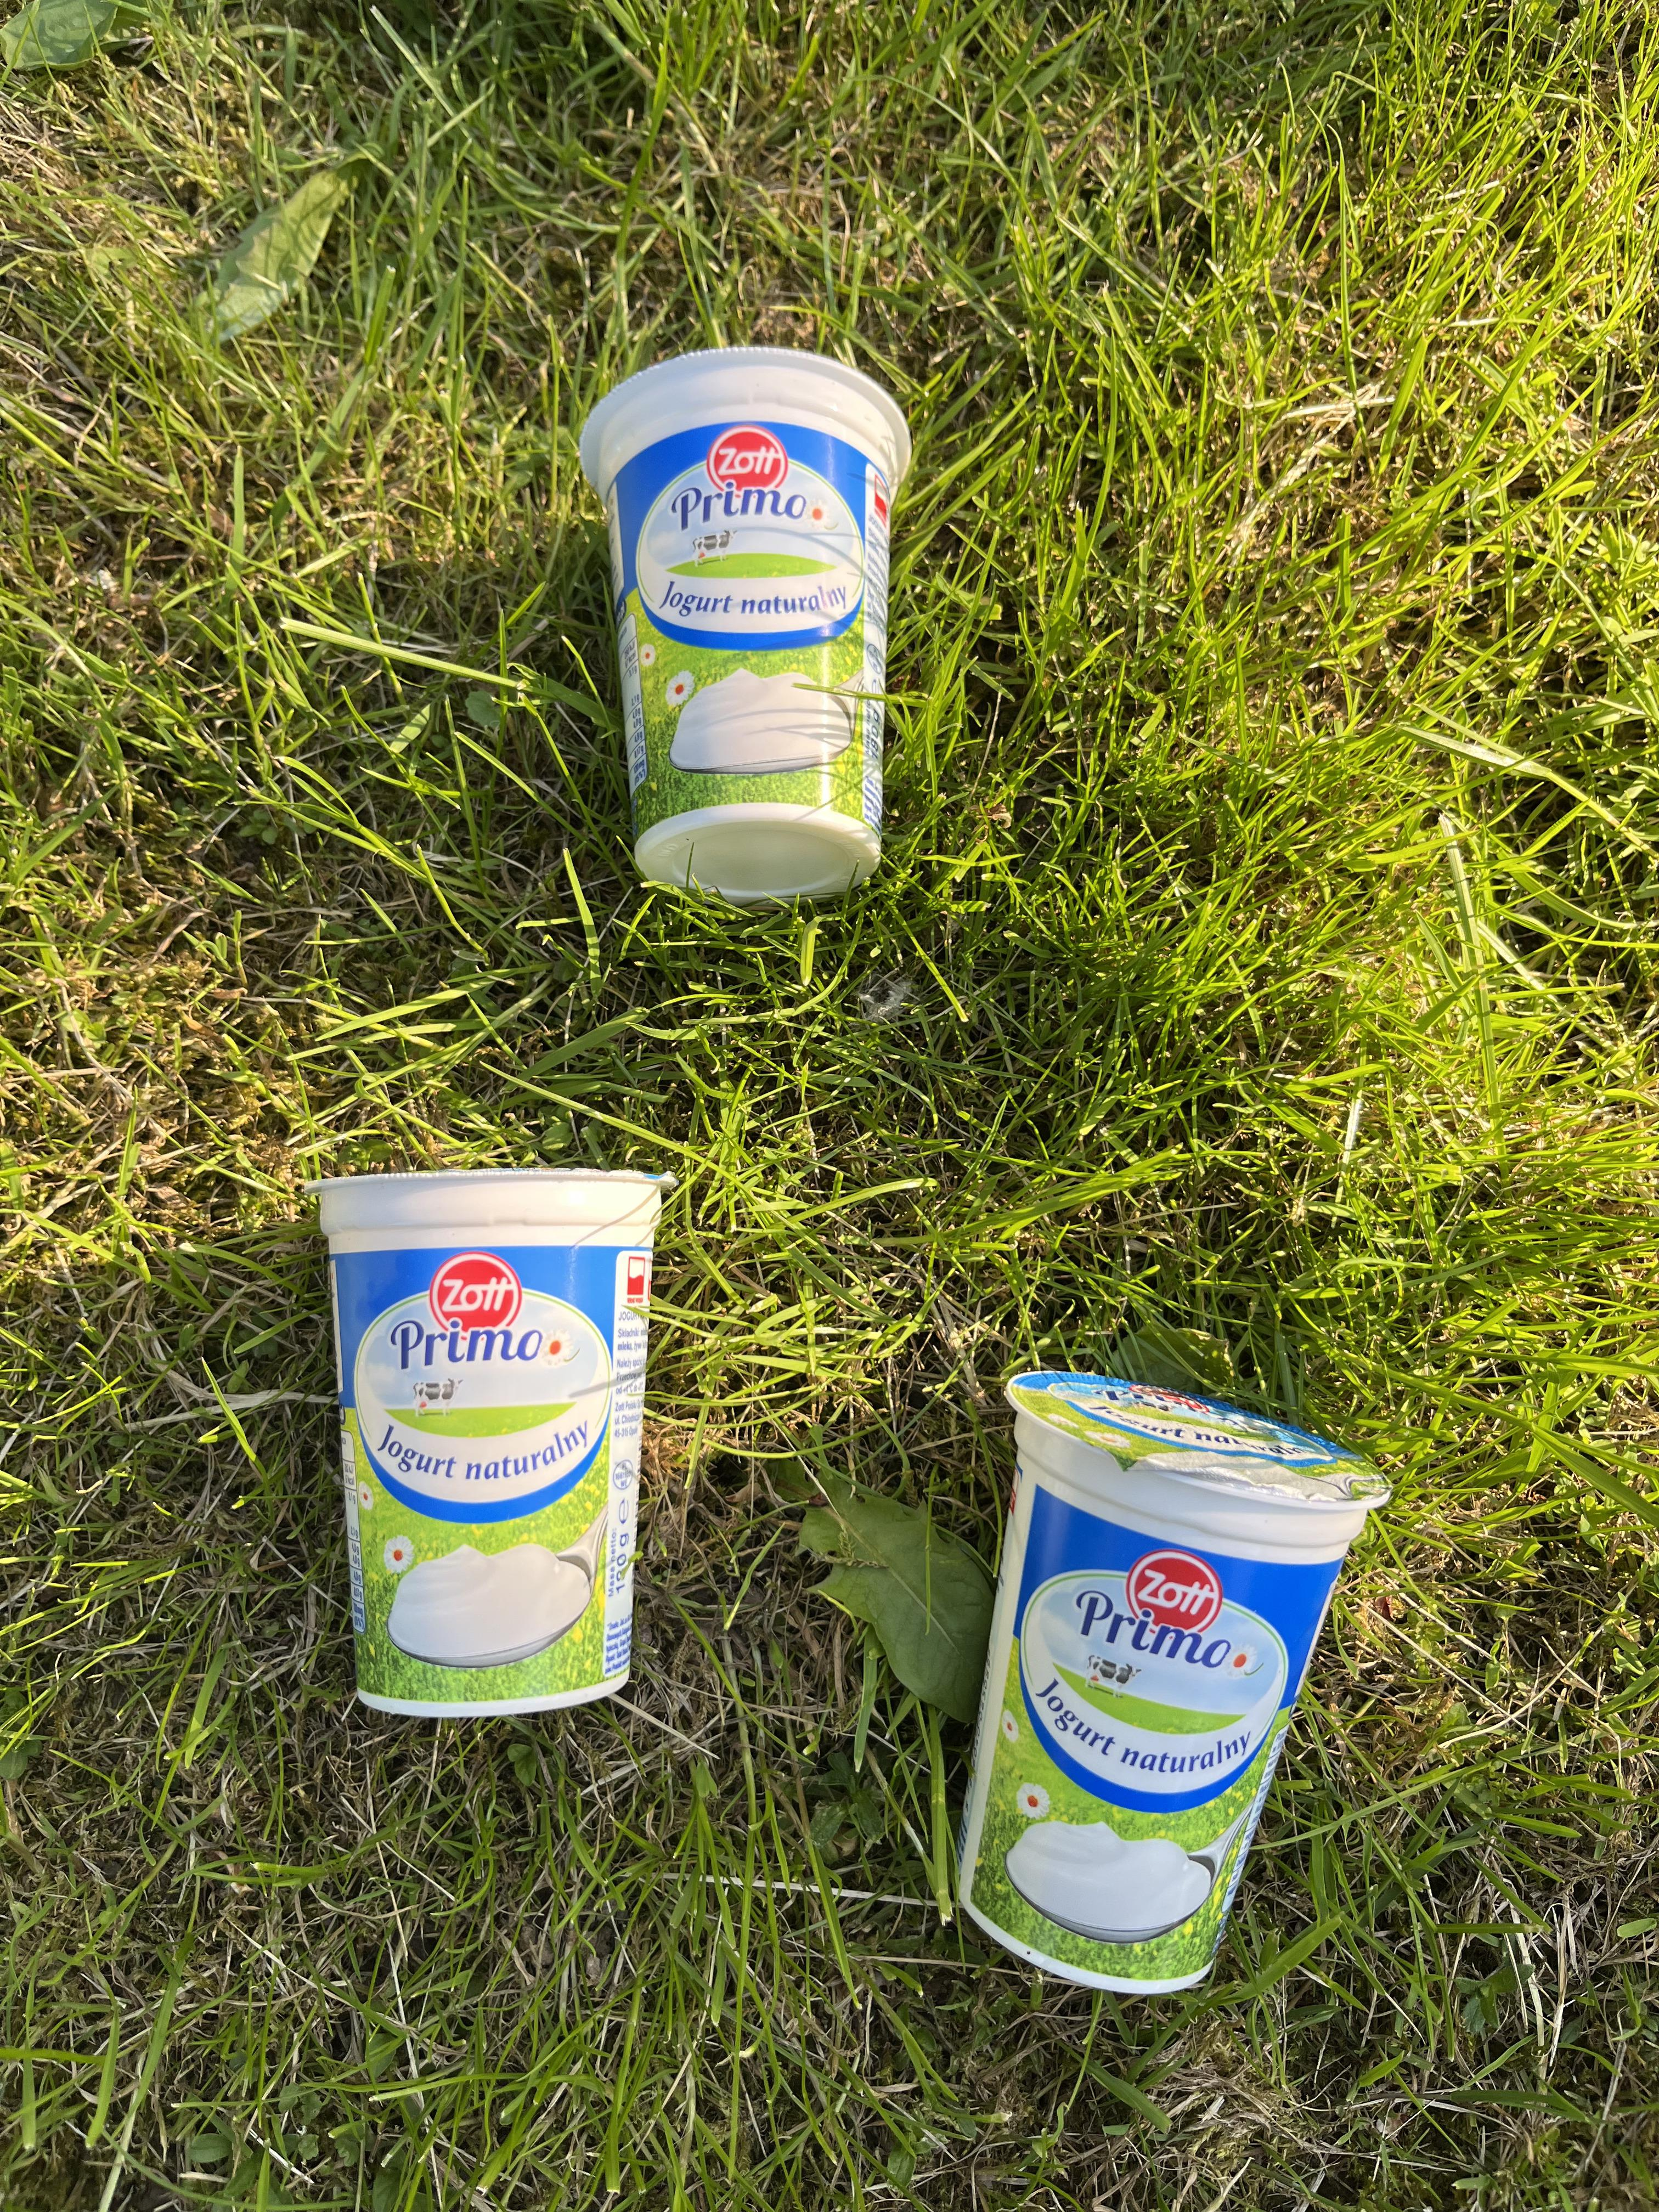Yogurt: (972, 1366, 1314, 1994), (329, 1179, 666, 1712), (608, 364, 913, 885)
